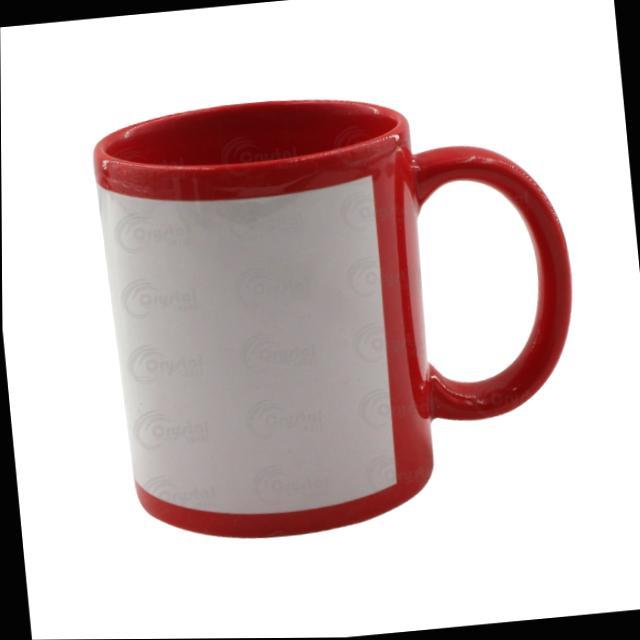cup: (75, 65, 609, 586)
